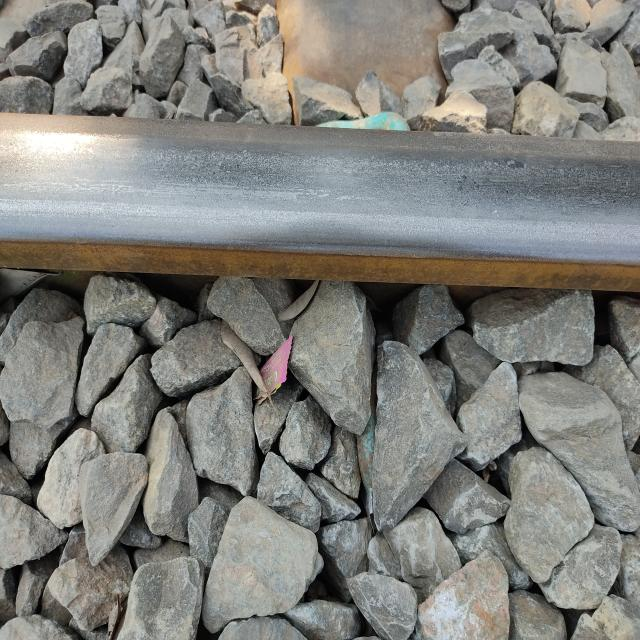non-defective: (187, 77, 520, 307)
